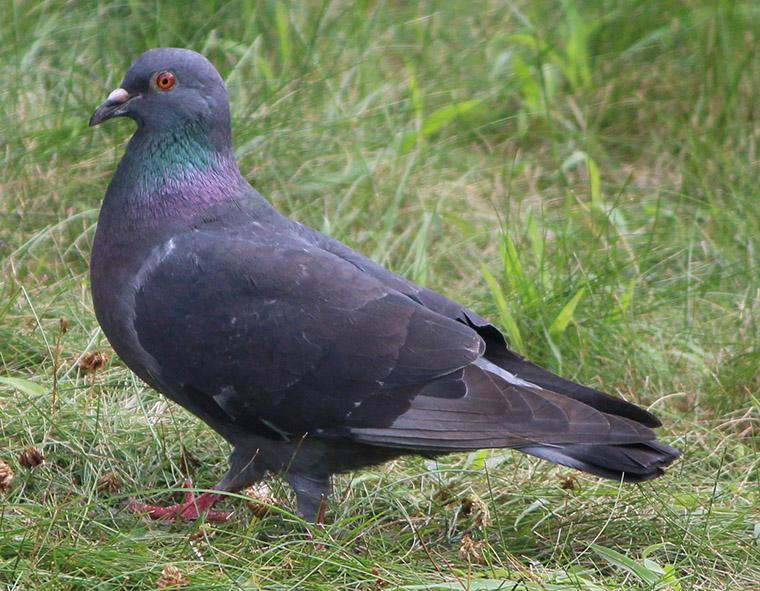Flying Rat: (81, 49, 651, 532)
